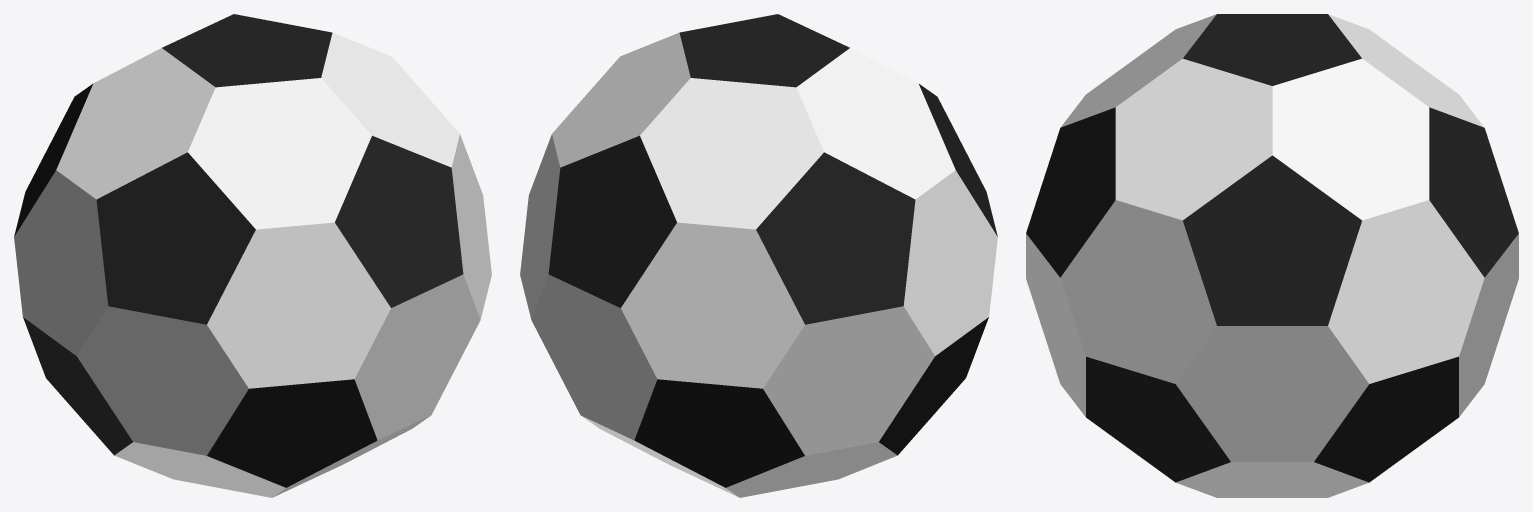
Rendered from pelota.fbx.
3 views of the same model, side by side, from view 1: azimuth 30°, elevation 25°; view 2: azimuth 150°, elevation 25°; view 3: azimuth 270°, elevation 25° (orthographic). The views are drawn at different scales.
Parts seen in each view (by area): view 1: Icosphere; view 2: Icosphere; view 3: Icosphere.
Boxes of the visible parts, box(x1,y1,x2,y2) form: Icosphere: box(14, 14, 491, 497); Icosphere: box(520, 14, 997, 497); Icosphere: box(1026, 14, 1518, 497).
Bounding box in the file's own units: 166 × 160 × 170.
Materials: 1 (1 with a texture image).
